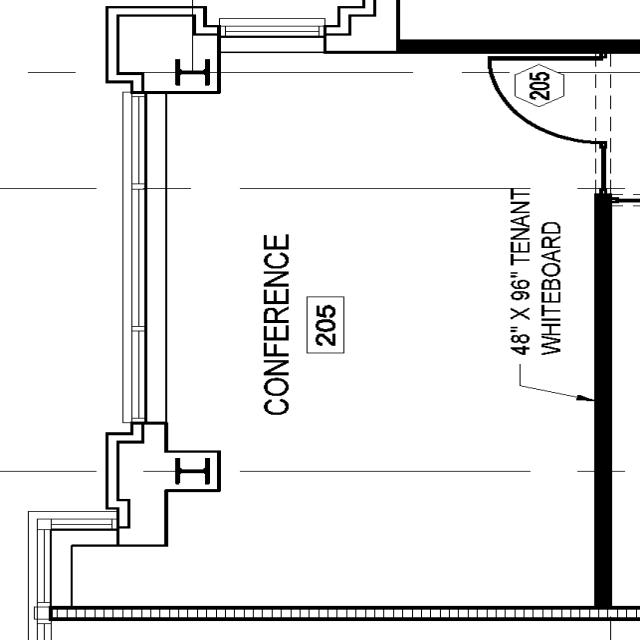Doors: (482, 53, 624, 148)
